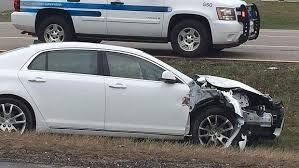Smashed: (183, 78, 285, 149)
